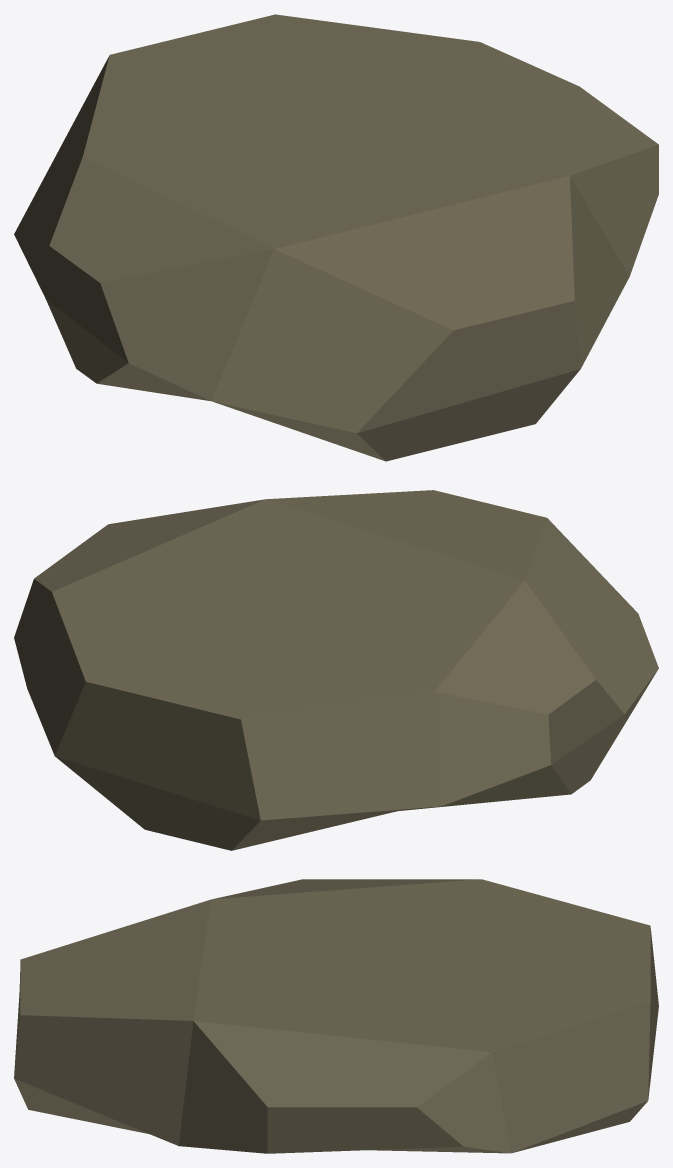
File: Stone_5.glb
3 views of the same model, one above another, from view 1: azimuth 30°, elevation 25°; view 2: azimuth 150°, elevation 25°; view 3: azimuth 270°, elevation 25° (orthographic). The views are drawn at different scales.
Visible parts, largest first — view 1: Stone_05; view 2: Stone_05; view 3: Stone_05.
Boxes of the visible parts, x1=… form: Stone_05: x1=14, y1=14, x2=658, y2=461; Stone_05: x1=14, y1=490, x2=658, y2=850; Stone_05: x1=14, y1=879, x2=658, y2=1153.
Size of the model in its own units: 0.4577 by 0.1338 by 0.5012.
